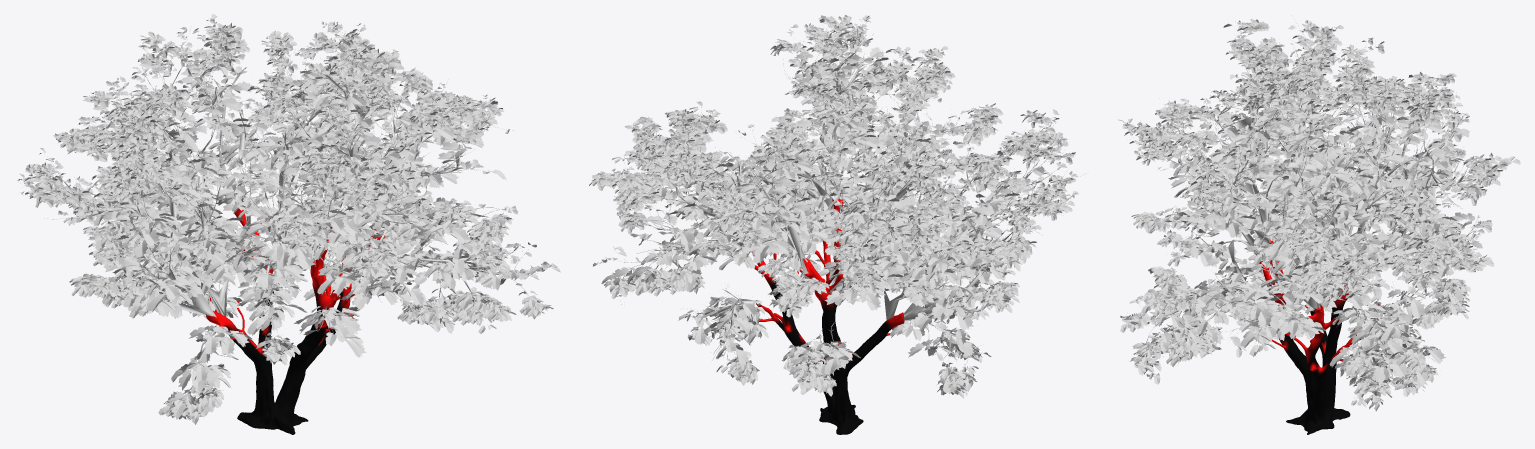
File: WardTree_LOD2.fbx
The picture shows the model from 3 angles, left to right: view 1: azimuth 30°, elevation 25°; view 2: azimuth 150°, elevation 25°; view 3: azimuth 270°, elevation 25°; orthographic projection. The views are drawn at different scales.
Visible parts, largest first — view 1: WardTree_LOD2_leaves, WardTree_LOD2_branches, WardTree_LOD2_trunk; view 2: WardTree_LOD2_leaves, WardTree_LOD2_branches, WardTree_LOD2_trunk; view 3: WardTree_LOD2_leaves, WardTree_LOD2_branches, WardTree_LOD2_trunk.
Boxes of the visible parts, x1=… form: WardTree_LOD2_leaves: x1=17, y1=14, x2=560, y2=424; WardTree_LOD2_branches: x1=22, y1=20, x2=549, y2=403; WardTree_LOD2_trunk: x1=206, y1=208, x2=385, y2=434; WardTree_LOD2_leaves: x1=589, y1=15, x2=1078, y2=398; WardTree_LOD2_branches: x1=601, y1=15, x2=1084, y2=374; WardTree_LOD2_trunk: x1=744, y1=198, x2=904, y2=434; WardTree_LOD2_leaves: x1=1118, y1=19, x2=1520, y2=411; WardTree_LOD2_branches: x1=1124, y1=15, x2=1491, y2=391; WardTree_LOD2_trunk: x1=1259, y1=239, x2=1379, y2=434.
Size of the model in its own units: 2444 by 1946 by 1914.
